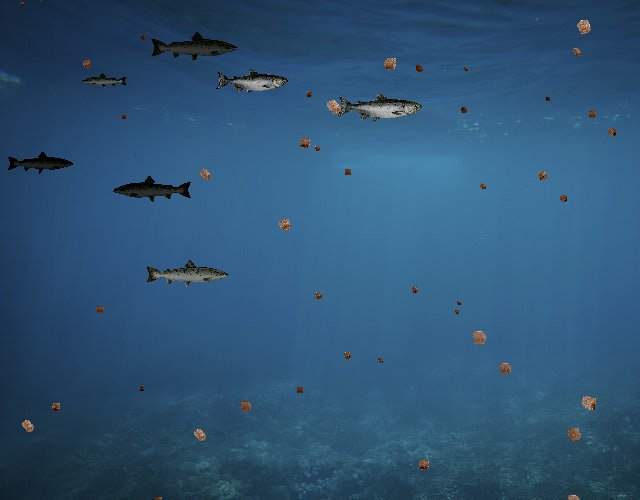Fish: (149, 31, 239, 63), (144, 258, 230, 289), (336, 92, 422, 123), (112, 175, 193, 204), (216, 69, 289, 95), (6, 151, 74, 175), (81, 73, 128, 90)
Pellet: (318, 92, 348, 122), (465, 323, 493, 351), (493, 356, 517, 380), (193, 162, 217, 186), (532, 165, 552, 185), (311, 142, 324, 155), (452, 306, 462, 316)
